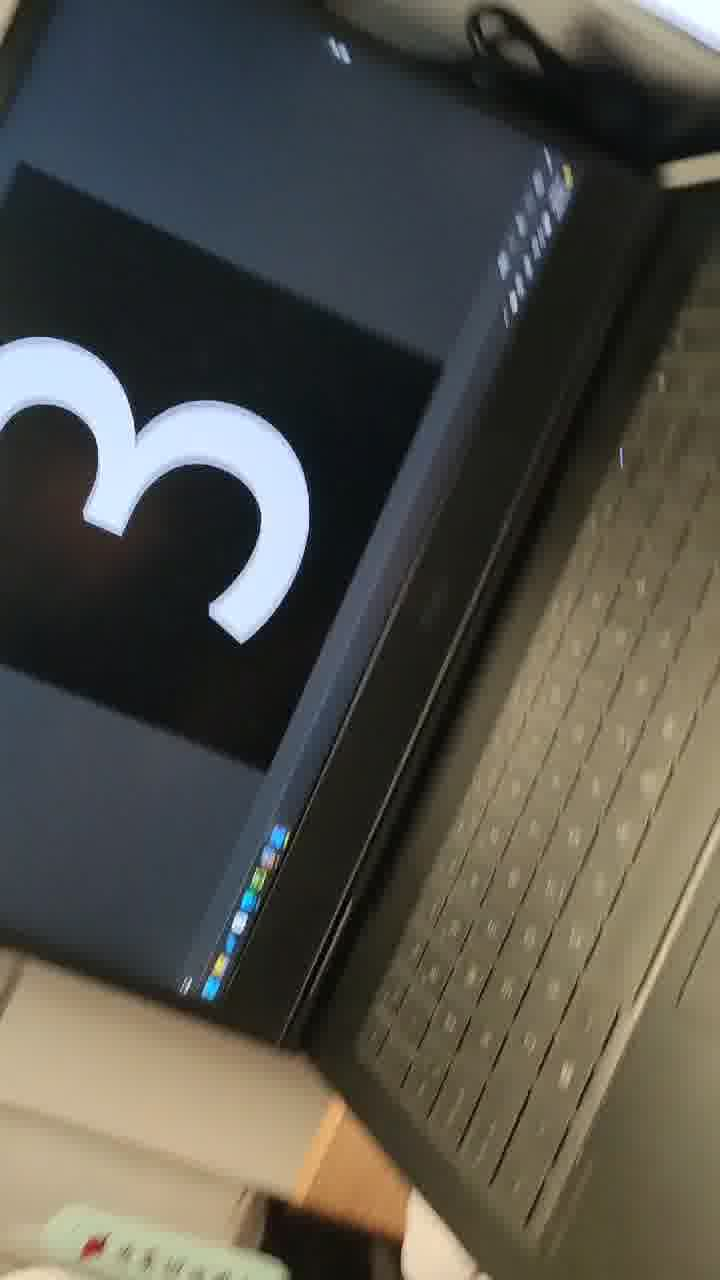three: (16, 265, 484, 746)
